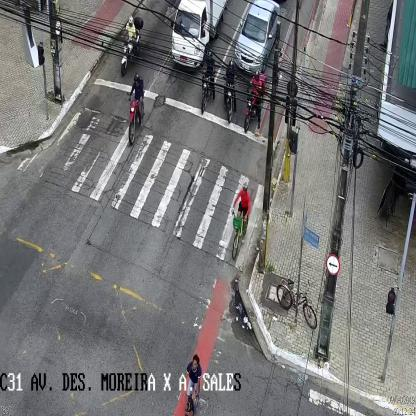bicycle: (276, 277, 316, 331), (231, 184, 248, 262), (186, 354, 200, 416)
car: (235, 1, 283, 74)
motorbike: (125, 74, 145, 147), (244, 71, 266, 132), (121, 16, 144, 73), (201, 51, 216, 115), (223, 58, 237, 124)
truck: (171, 2, 226, 69)
